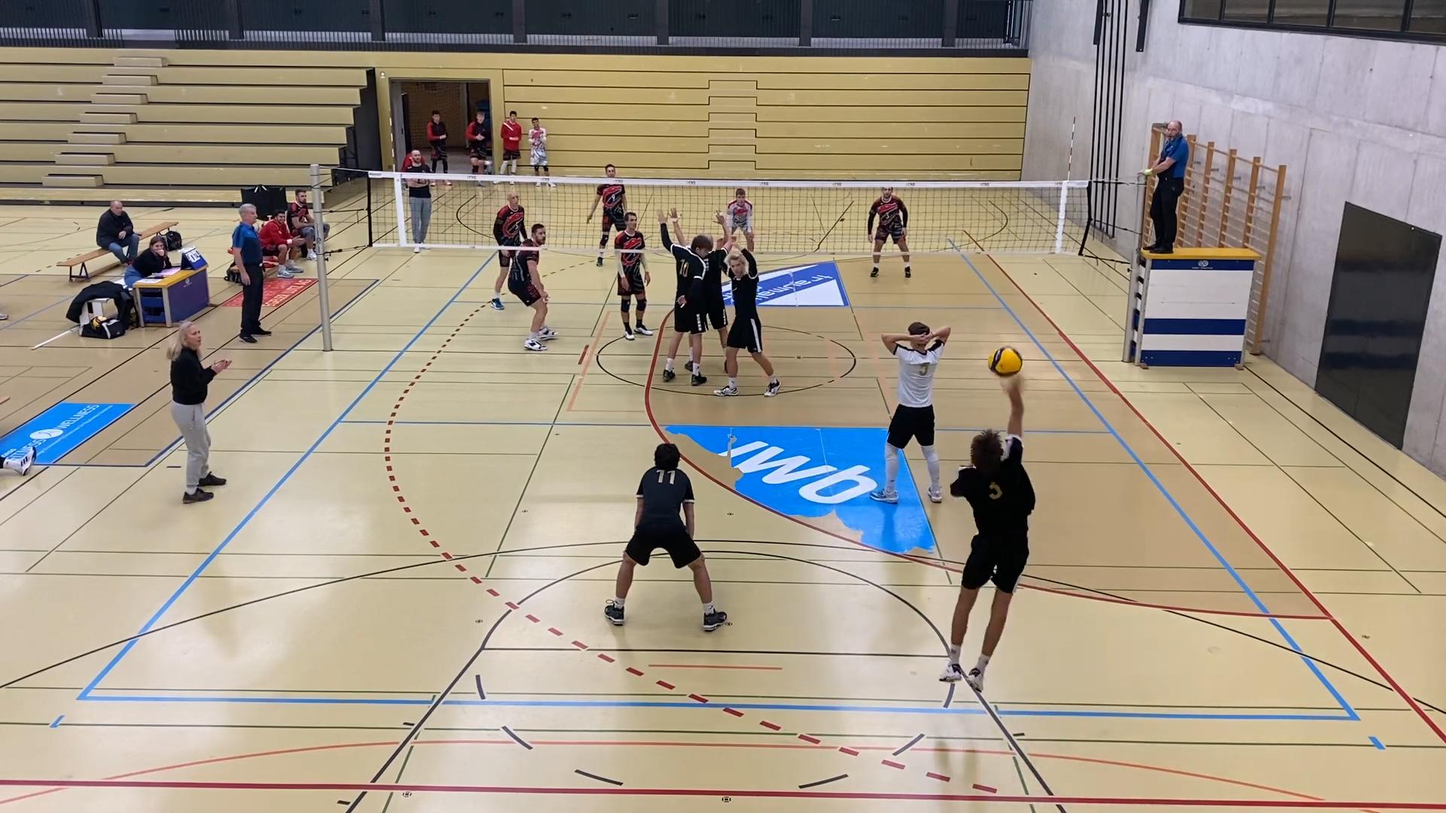Player: (604, 443, 727, 631), (870, 321, 950, 502), (715, 232, 779, 397), (659, 209, 713, 385), (508, 223, 557, 350), (614, 212, 652, 340), (703, 212, 731, 351), (587, 164, 625, 266), (868, 187, 911, 277), (727, 187, 754, 251), (490, 248, 514, 309)
Serve: (939, 373, 1037, 694)
ball: (990, 346, 1025, 377)
